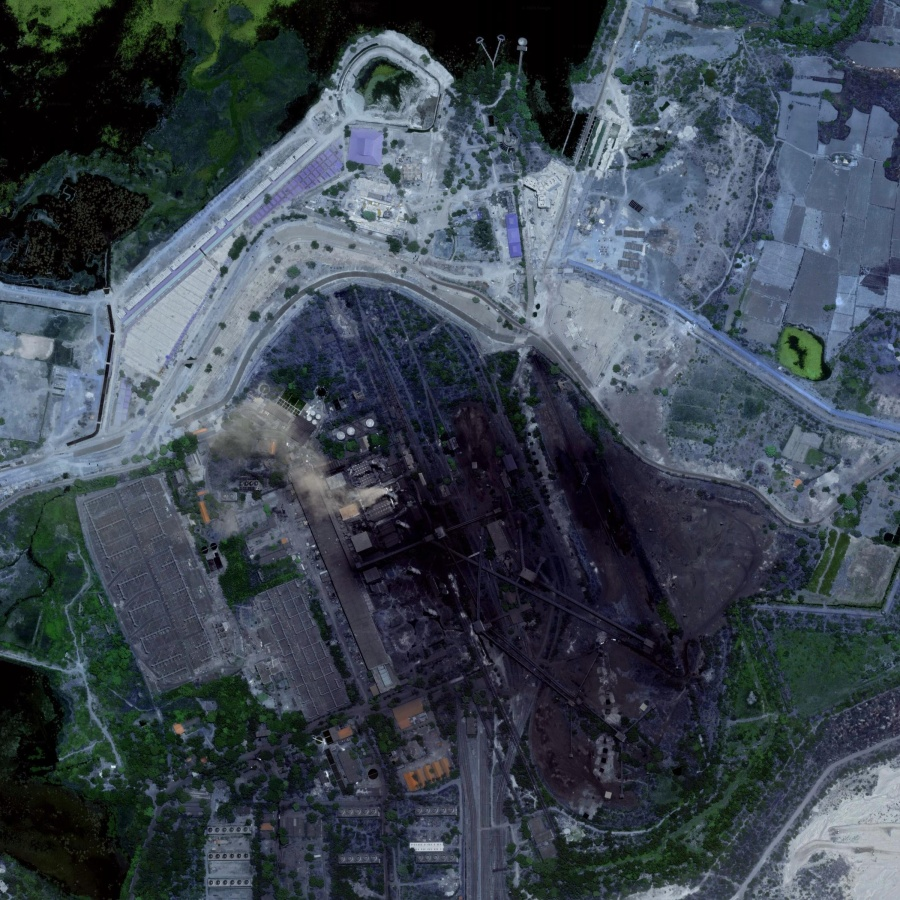PowerPlant: (229, 271, 720, 810)
